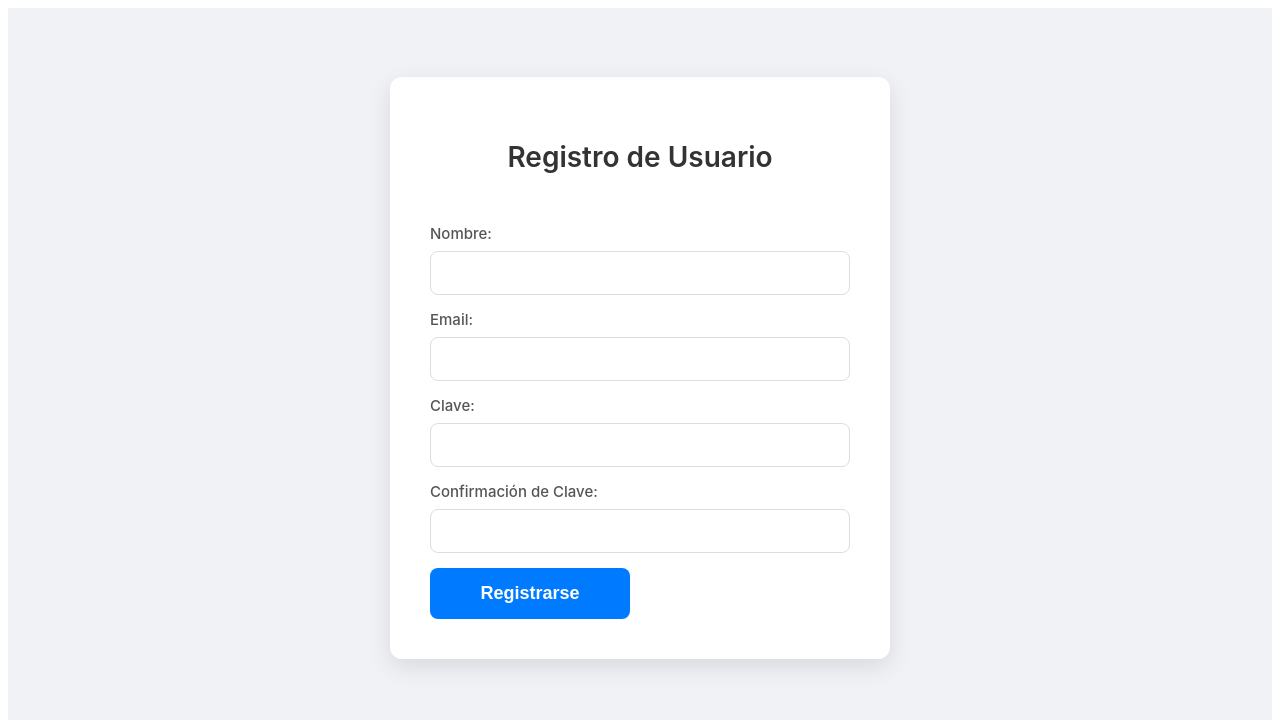
Escenario 3: Registro Fallido por Clave y Confirmación de Clave No Coinciden › Debe mostrar mensajes de error cuando las contraseñas no coincidan
Type "Maria Lopez" into the field with id "name".
click(640, 273); type("Maria Lopez")  # box [430,251,850,295]
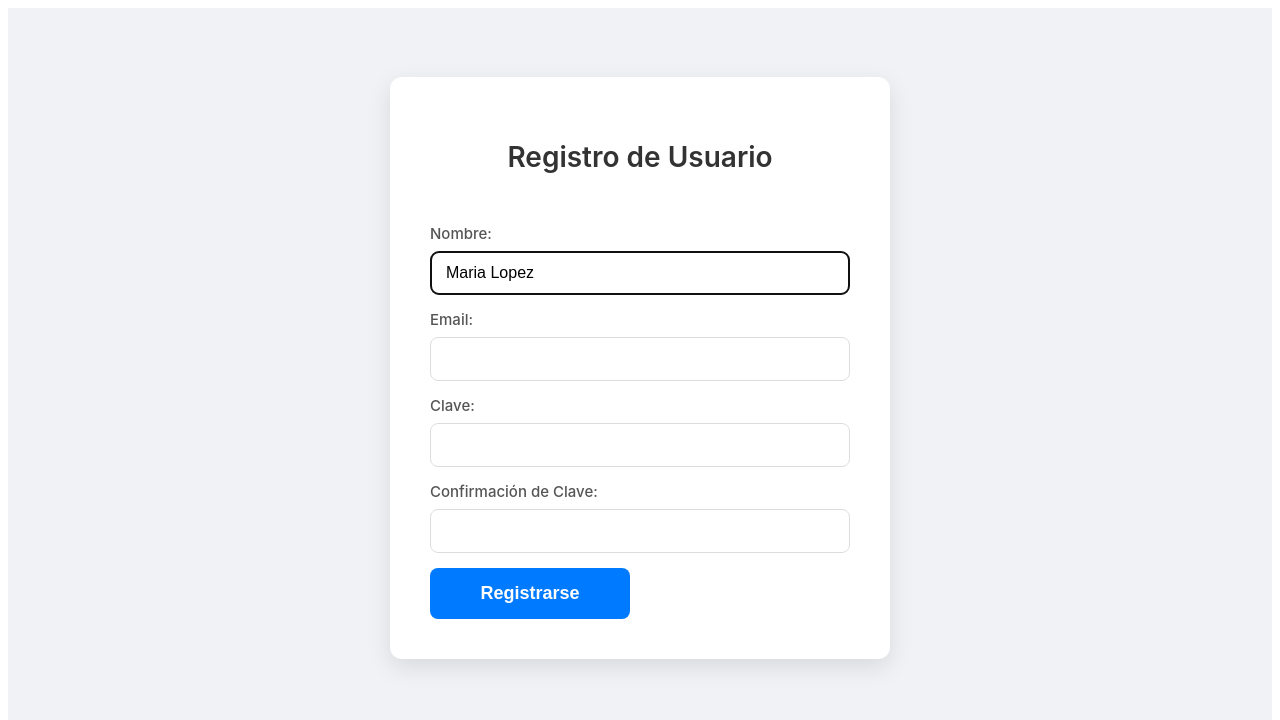
Type "maria.lopez@example.com" into the field with id "email".
click(640, 359); type("maria.lopez@example.com")  # box [430,337,850,381]
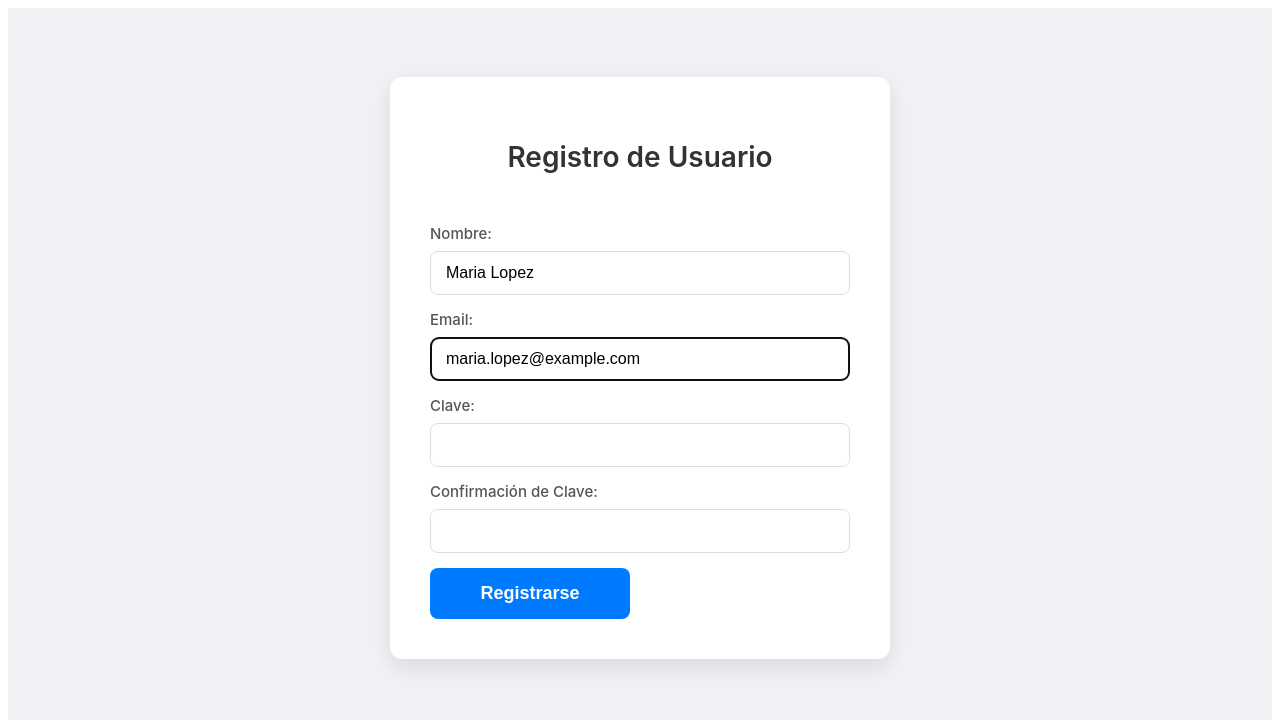
Type "ClaveValida123" into the password field labelled "Clave:".
click(640, 445); type("ClaveValida123")  # box [430,423,850,467]
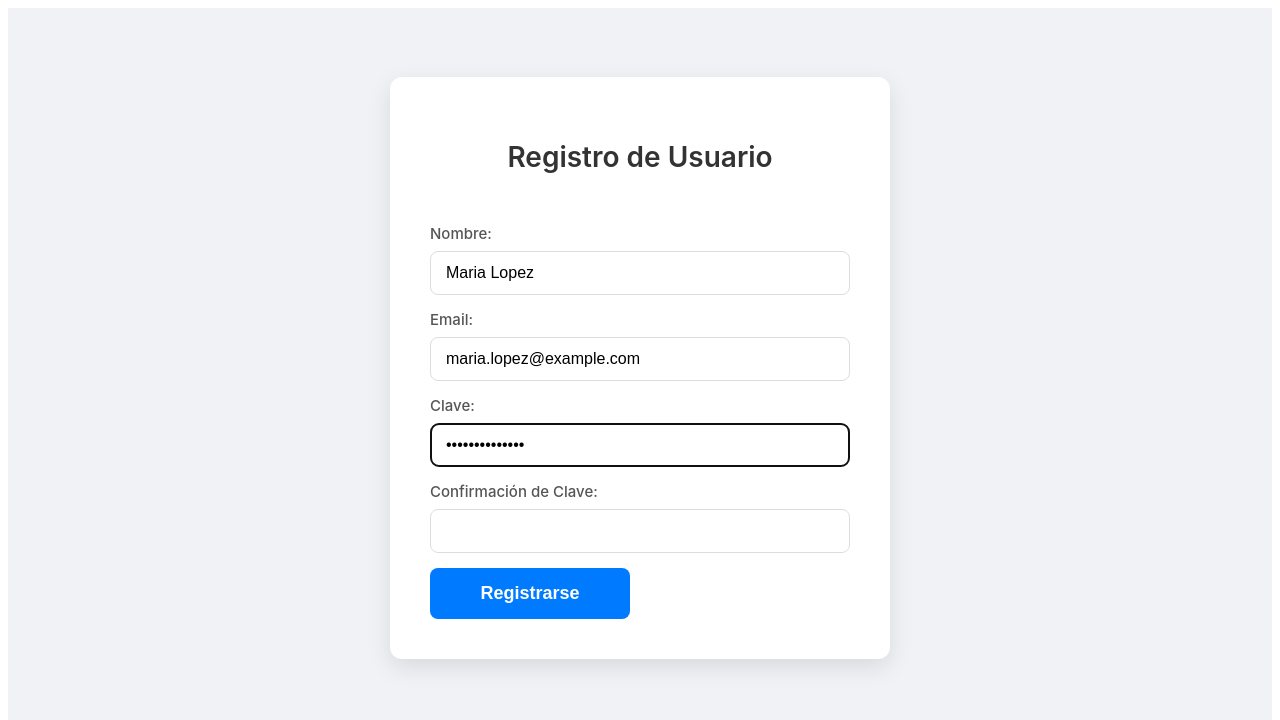
Type "ClaveDiferente456" into the password field with id "confirmPassword".
click(640, 531); type("ClaveDiferente456")  # box [430,509,850,553]
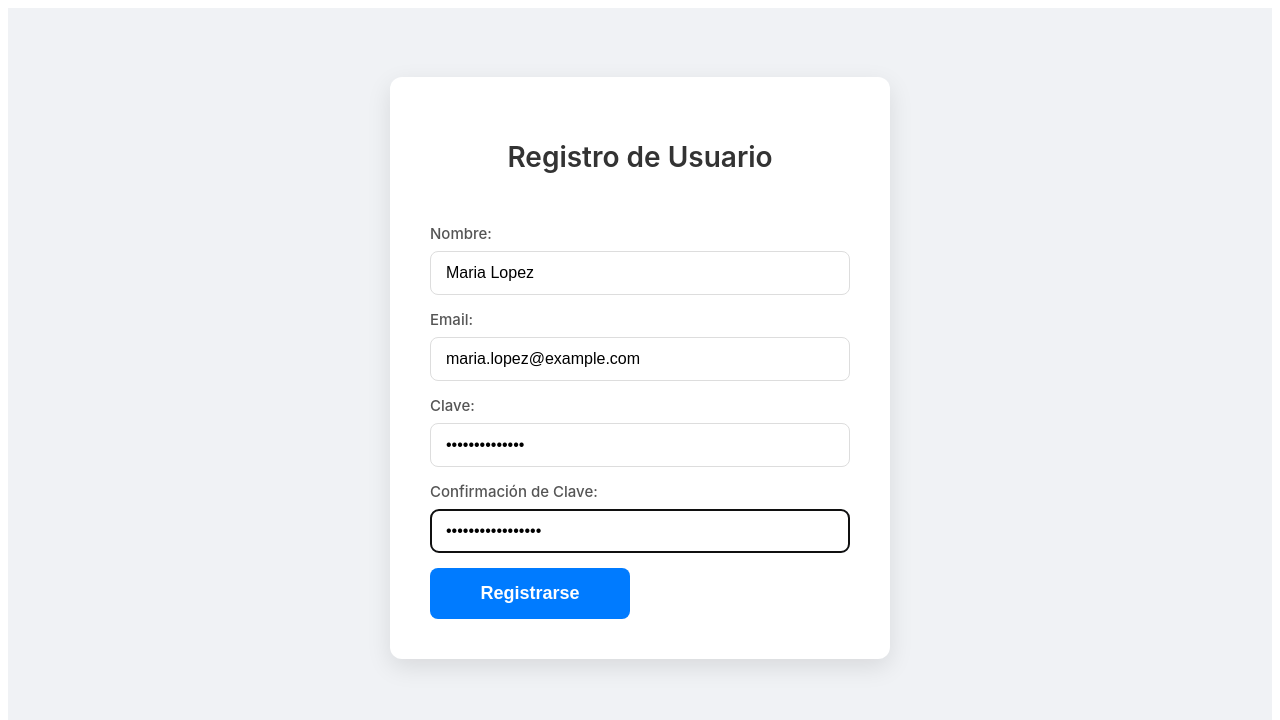
Click the button "Registrarse".
click(530, 594)  # box [430,568,630,619]
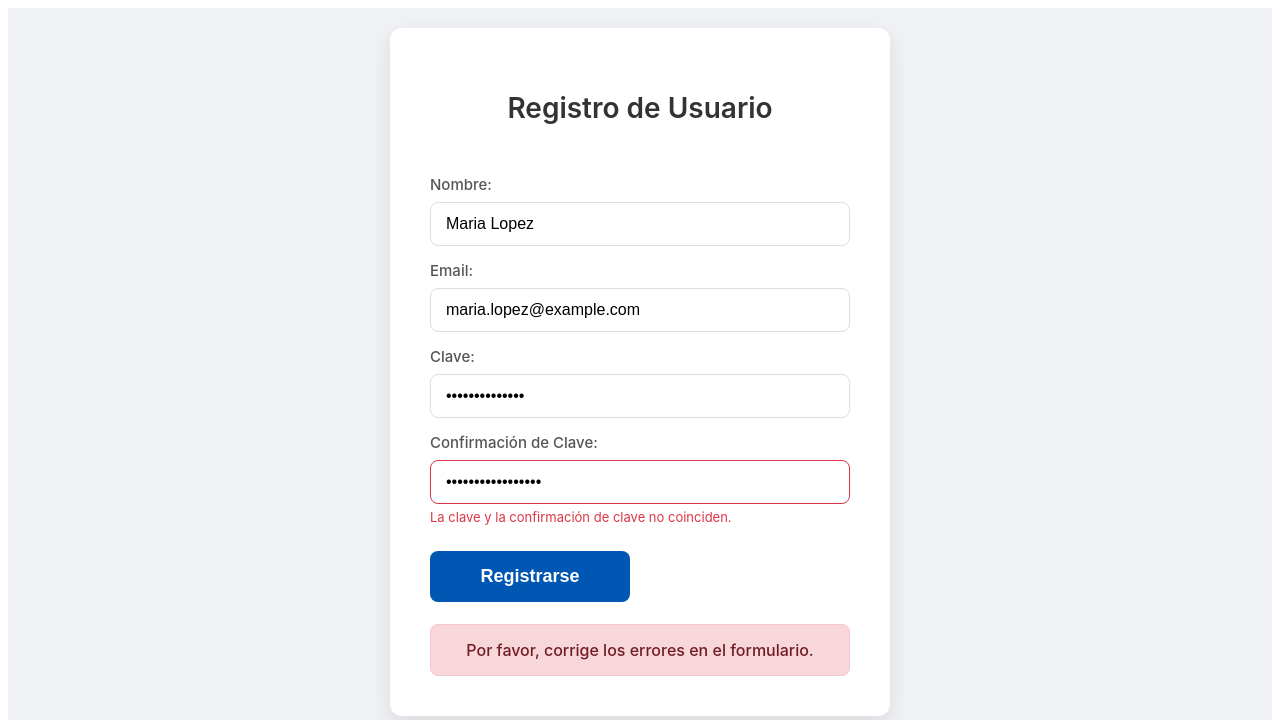
Result: the text "La clave y la confirmación de clave no coinciden." is shown at [430,509,732,525]
Result: the text "Por favor, corrige los errores en el formulario." is shown at [430,624,850,676]
